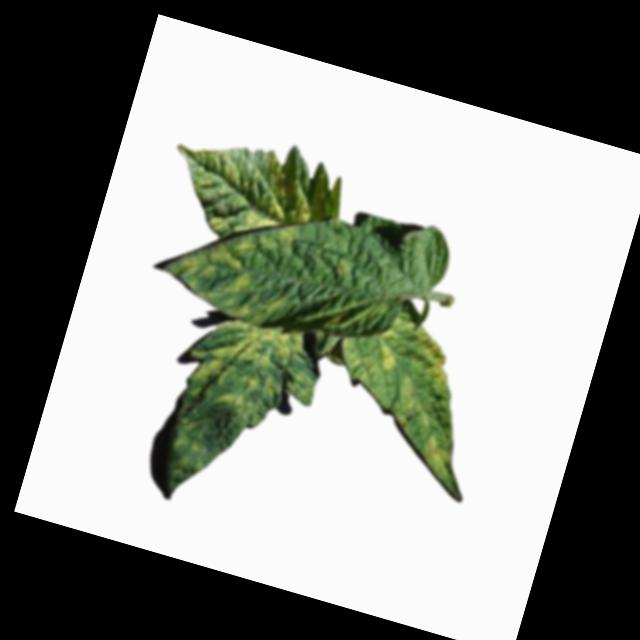Leaf_Mold: (161, 119, 350, 260), (172, 301, 330, 434), (147, 215, 298, 328), (365, 375, 472, 483), (396, 322, 462, 394), (360, 322, 405, 382)
